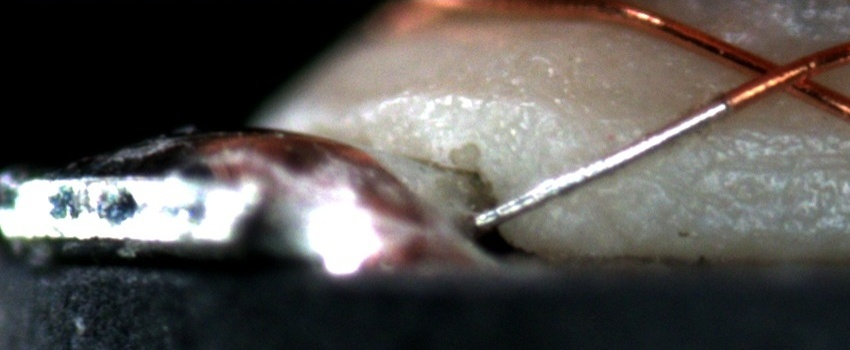CL: (733, 47, 826, 102)
DL: (678, 132, 850, 196)
TS: (474, 97, 729, 231)
